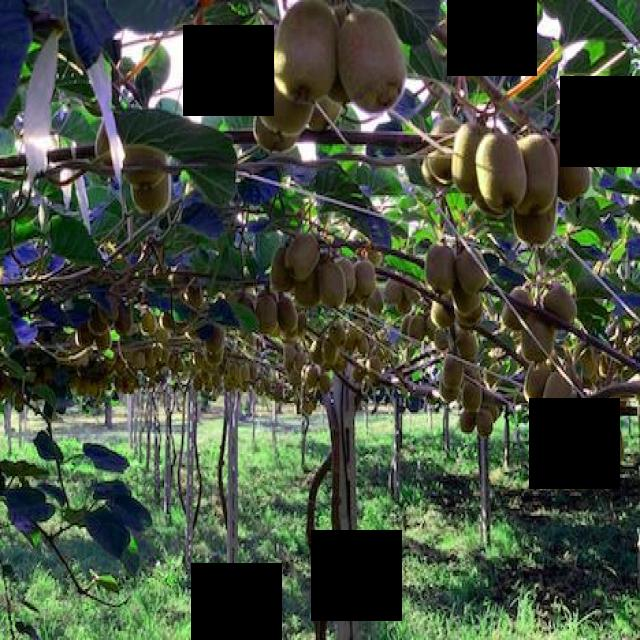kiwi: (476, 133, 528, 213), (254, 69, 316, 135), (516, 132, 561, 218), (338, 67, 413, 115), (272, 65, 339, 107), (555, 132, 592, 205), (119, 140, 169, 189), (514, 203, 563, 251), (457, 125, 490, 195), (424, 120, 456, 186), (251, 111, 299, 153), (456, 244, 492, 297), (286, 231, 324, 280), (425, 240, 457, 294), (92, 118, 120, 176), (130, 178, 175, 214), (317, 262, 349, 311), (500, 285, 534, 331), (544, 284, 580, 326), (543, 373, 575, 419), (524, 362, 554, 410), (523, 320, 555, 364), (271, 247, 297, 295), (307, 102, 340, 136), (590, 413, 618, 453), (573, 428, 597, 470), (255, 295, 279, 335), (602, 426, 626, 466), (455, 329, 483, 362), (356, 256, 376, 302), (276, 295, 299, 335), (452, 289, 484, 317), (294, 278, 322, 309), (431, 298, 457, 331), (443, 355, 466, 391), (86, 309, 112, 340), (462, 381, 484, 417), (115, 302, 134, 338), (342, 256, 357, 300), (327, 319, 349, 348), (138, 308, 158, 339), (473, 413, 496, 439), (330, 83, 353, 109), (321, 337, 340, 368), (458, 409, 478, 437), (384, 278, 403, 307), (409, 313, 428, 342), (206, 326, 225, 355), (306, 364, 324, 392), (369, 289, 387, 315), (309, 337, 324, 368), (160, 309, 178, 333), (189, 284, 205, 310), (442, 390, 461, 410), (205, 350, 225, 366)
